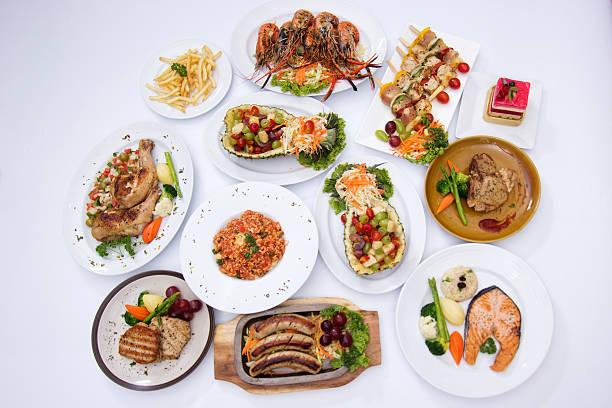Braised Crucian Carp: (394, 244, 553, 399), (63, 124, 192, 276), (354, 23, 480, 166), (180, 181, 316, 313), (213, 297, 381, 394), (313, 160, 427, 294), (230, 1, 384, 98), (90, 270, 210, 390), (423, 135, 540, 242), (204, 91, 337, 184), (139, 39, 231, 120)
